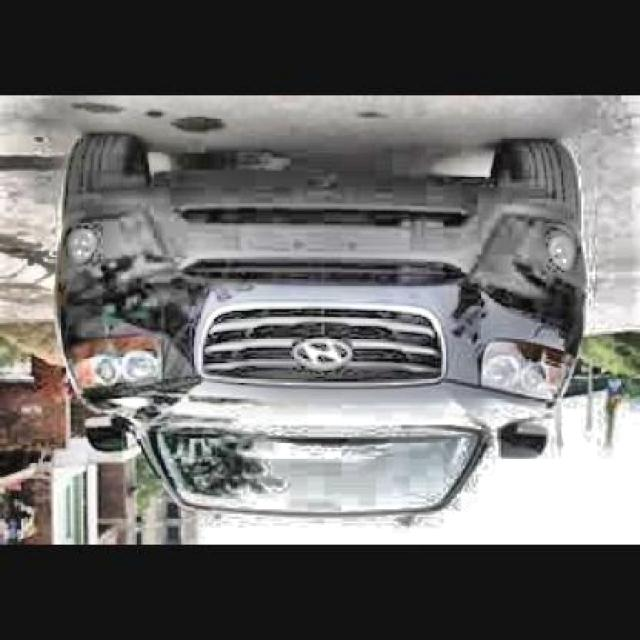black: (40, 152, 640, 520)
